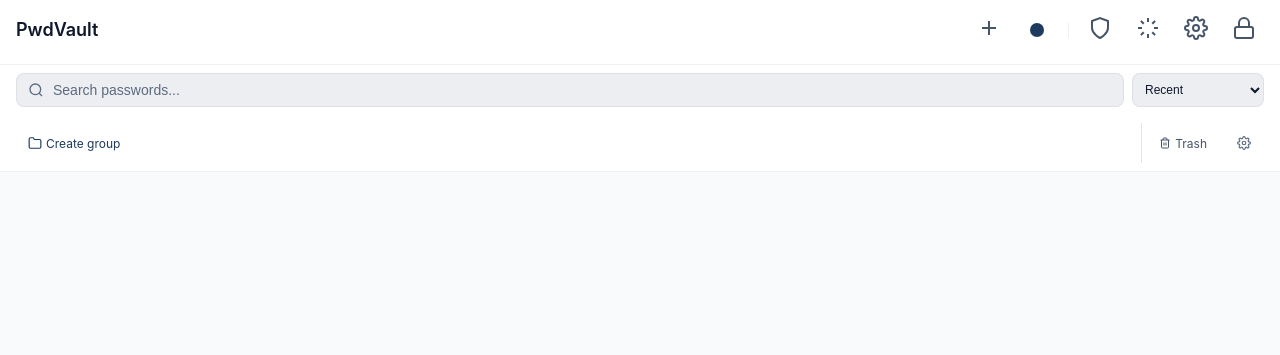
VaultScreen trash (v1.4.0) › opens the trash, lists deleted entries, and hides the live-list search
Expected: the text "Old Site" is not shown
Expected: the field labelled "Search passwords" is shown, [16, 73, 1124, 107]
Click the button "Trash".
click(1183, 143)  # box [1146, 131, 1220, 156]
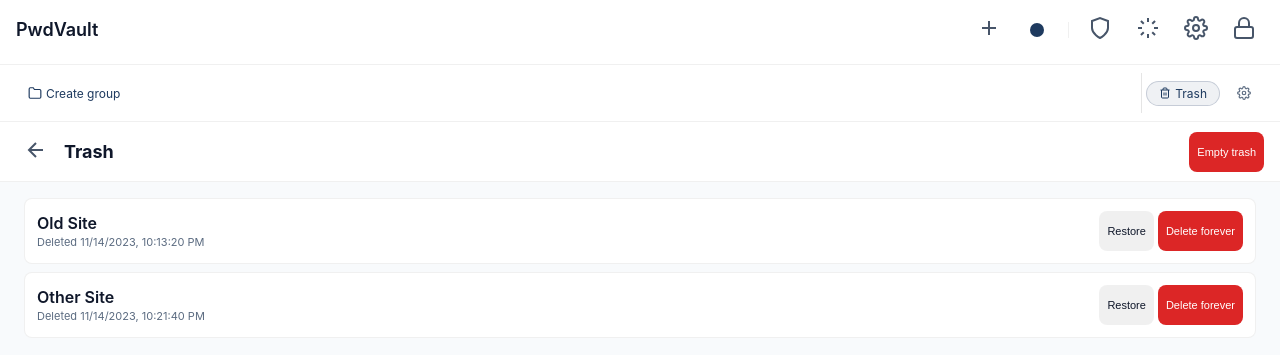
Result: the text "Old Site" is shown at [37, 213, 97, 233]
Result: the text "Other Site" is shown at [37, 287, 114, 307]
Result: the text "Deleted 11/14/2023, 10:13:20 PM" is shown 2 times at [37, 235, 204, 249]; [37, 309, 205, 323]
